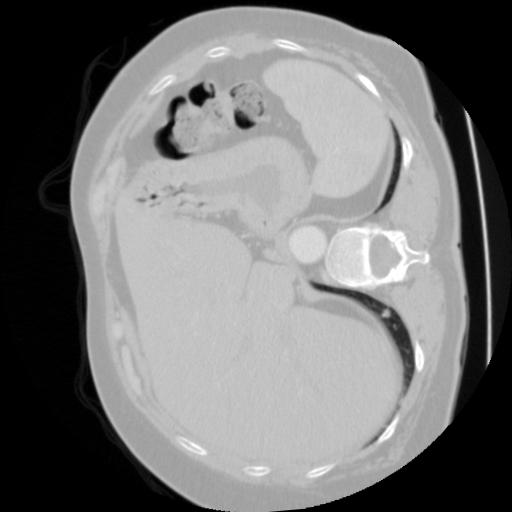nodule: (379, 308, 393, 322)
